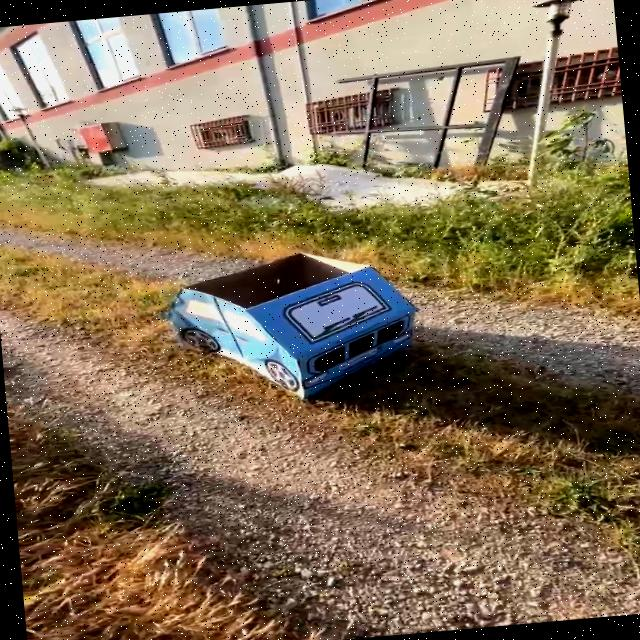blue_car: (100, 203, 494, 447)
